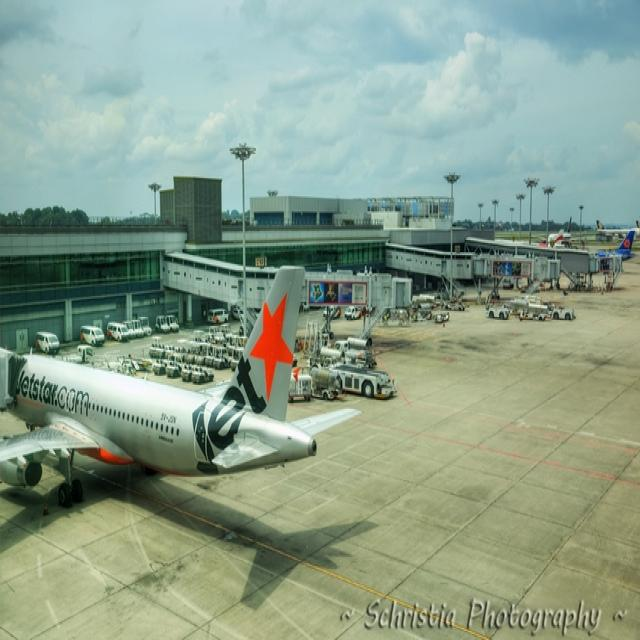Vehicle: (309, 367, 341, 400), (52, 345, 95, 368), (288, 373, 313, 403), (35, 331, 61, 354), (106, 320, 130, 342), (80, 326, 104, 346), (552, 304, 576, 320), (193, 370, 215, 384), (154, 314, 170, 332), (167, 364, 188, 377), (128, 320, 144, 337), (180, 366, 198, 381), (166, 316, 180, 331), (122, 322, 135, 338), (334, 341, 348, 351), (153, 366, 165, 375)
